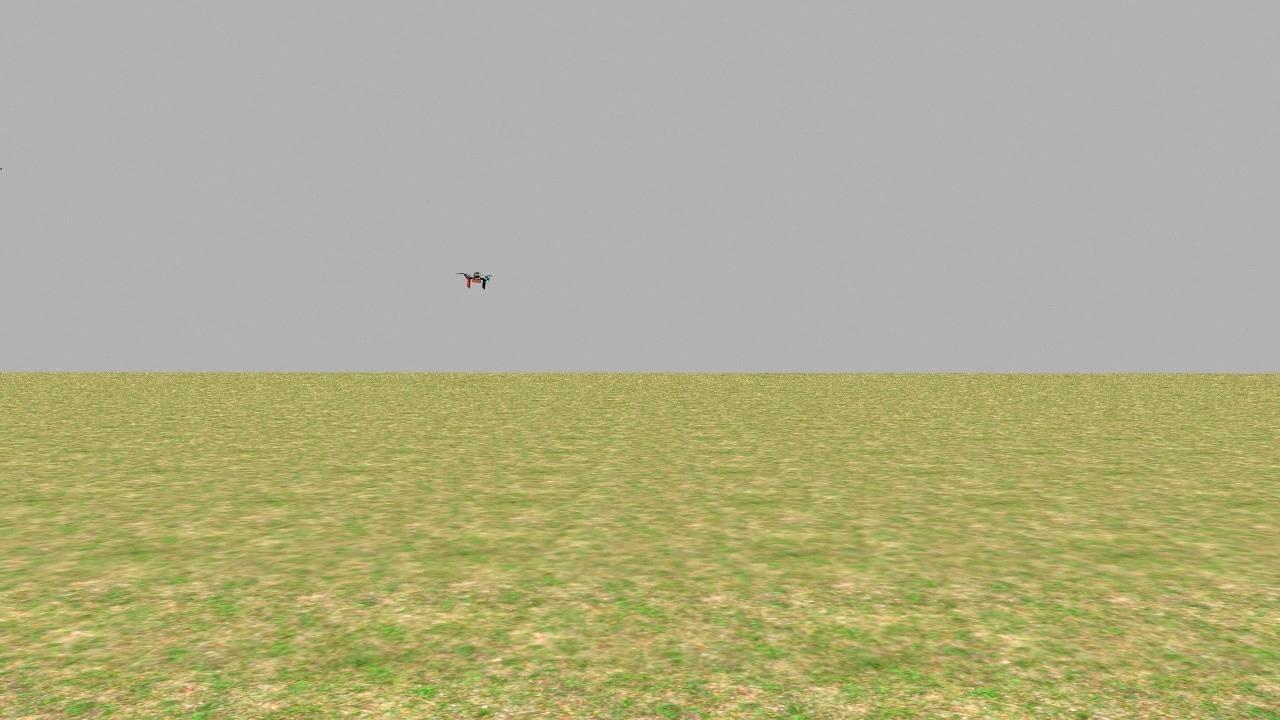UAV: (454, 261, 498, 299)
